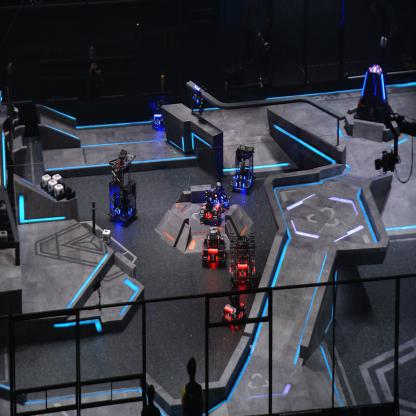car: (109, 154, 138, 224), (227, 230, 256, 288), (230, 144, 256, 193), (221, 289, 247, 330), (201, 226, 226, 263), (198, 188, 222, 224), (209, 180, 230, 210), (151, 99, 167, 129)
